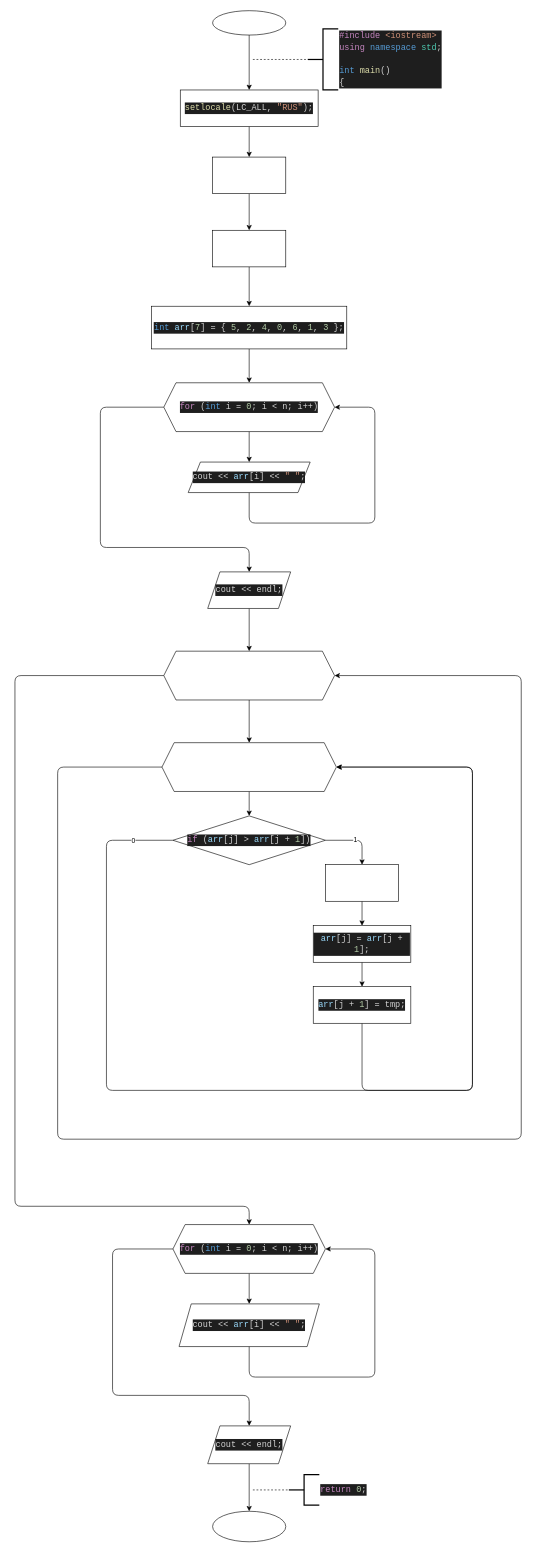
Image size: 537x1552. Some labels were removed from this diagram. The shapes that lost their labels are listed below. From the top down, each one's centre as x and y in pixels, then its label:
At point 249,22: "Начало".
At point 249,175: "int n = 7 ;".
At point 249,248: "int tmp;".
At point 249,675: "for ( int i = 0 ; i < n - 1 ; i++)".
At point 248,766: "for ( int j = 0 ; j < n - 1 - i; j++)".
At point 362,882: "tmp = arr [j];".
At point 249,1526: "Конец".
